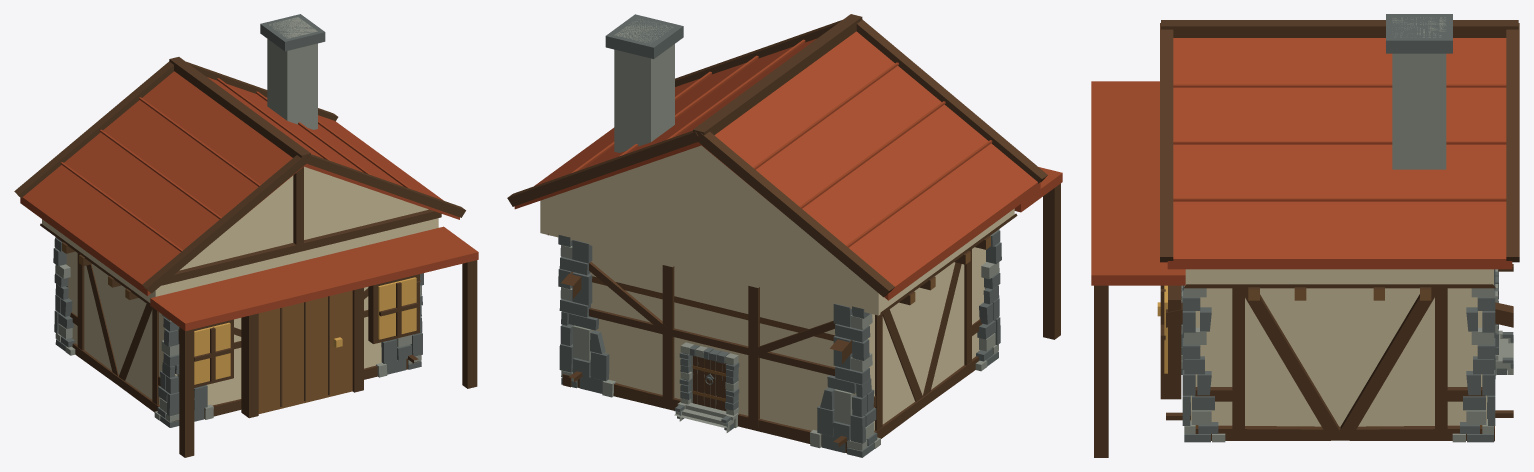
The model's file is farm_house.glb.
3 views of the same model, side by side, from view 1: azimuth 30°, elevation 25°; view 2: azimuth 150°, elevation 25°; view 3: azimuth 270°, elevation 25° (orthographic). The views are drawn at different scales.
Visible parts, largest first — view 1: farm_house; view 2: farm_house; view 3: farm_house.
Part boxes in pixels (left/top/right/bottom): farm_house: left=14, top=14, right=478, bottom=457; farm_house: left=507, top=14, right=1062, bottom=457; farm_house: left=1091, top=14, right=1519, bottom=457.
Size of the model in its own units: 7 by 6 by 6.
